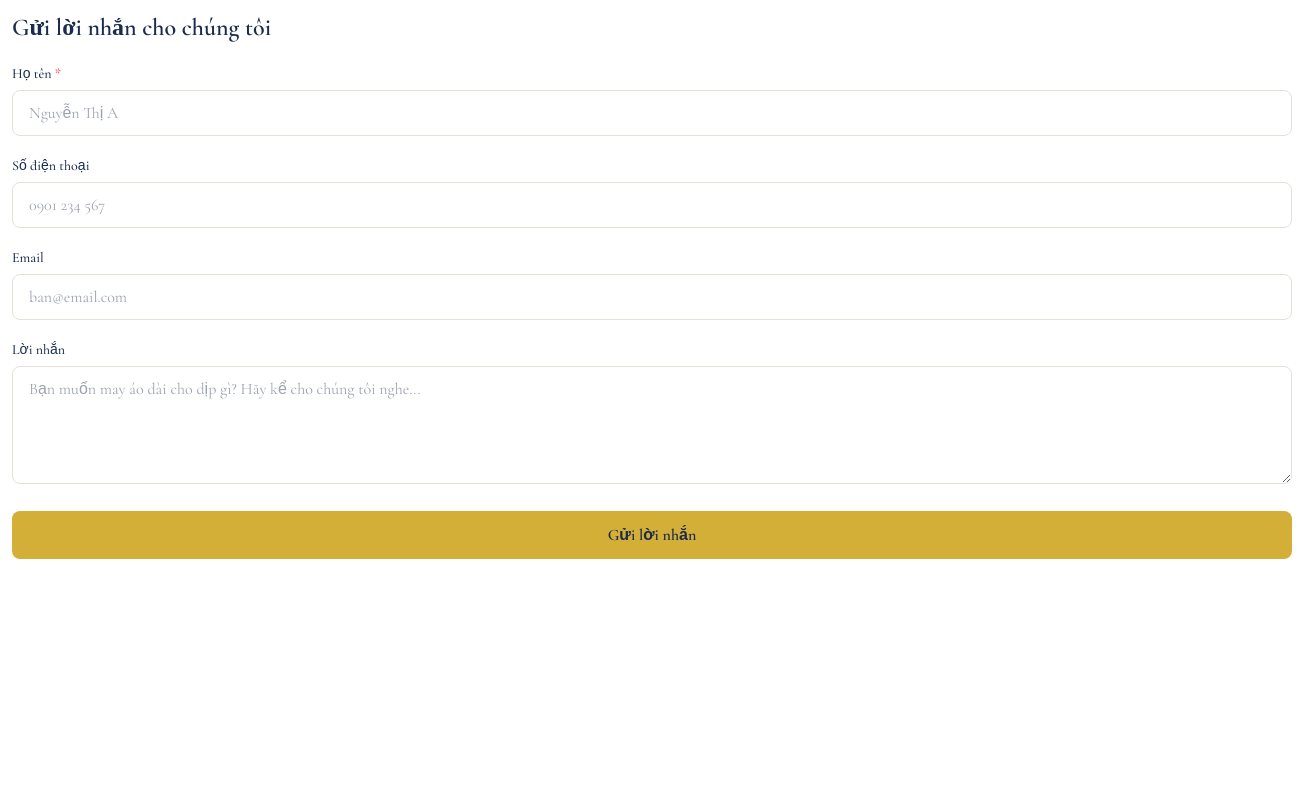
Test case: ContactForm › shows 'Vui lòng nhập họ tên' and does not submit when name is empty
The width and height of the screenshot is (1304, 812).
Click the button "Gửi lời nhắn" at (652, 535), box [12,511,1292,559]
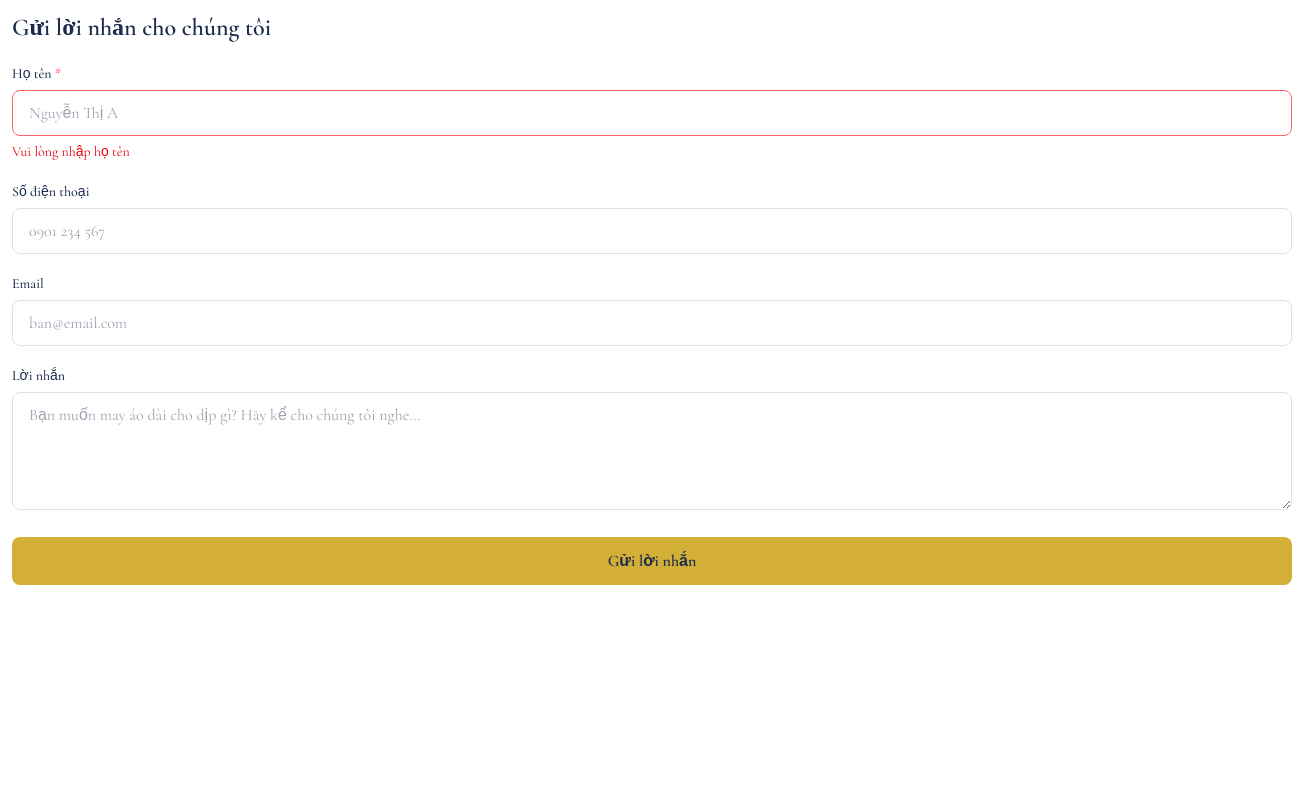
Expected: the text "Vui lòng nhập họ tên" is shown, [12,143,130,160]
